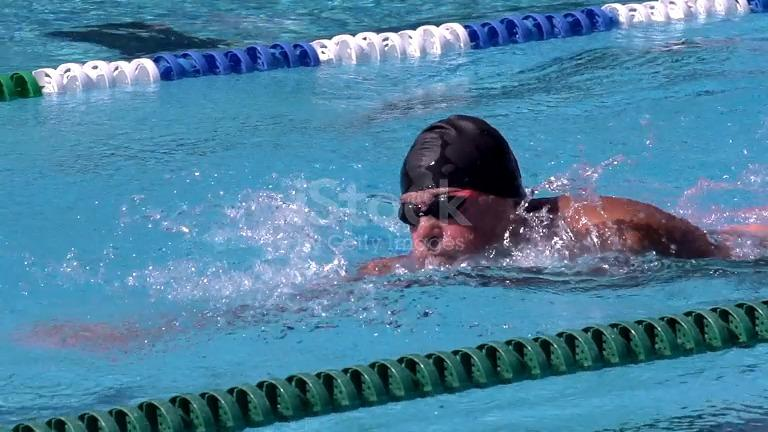Swimming: (341, 112, 764, 287)
